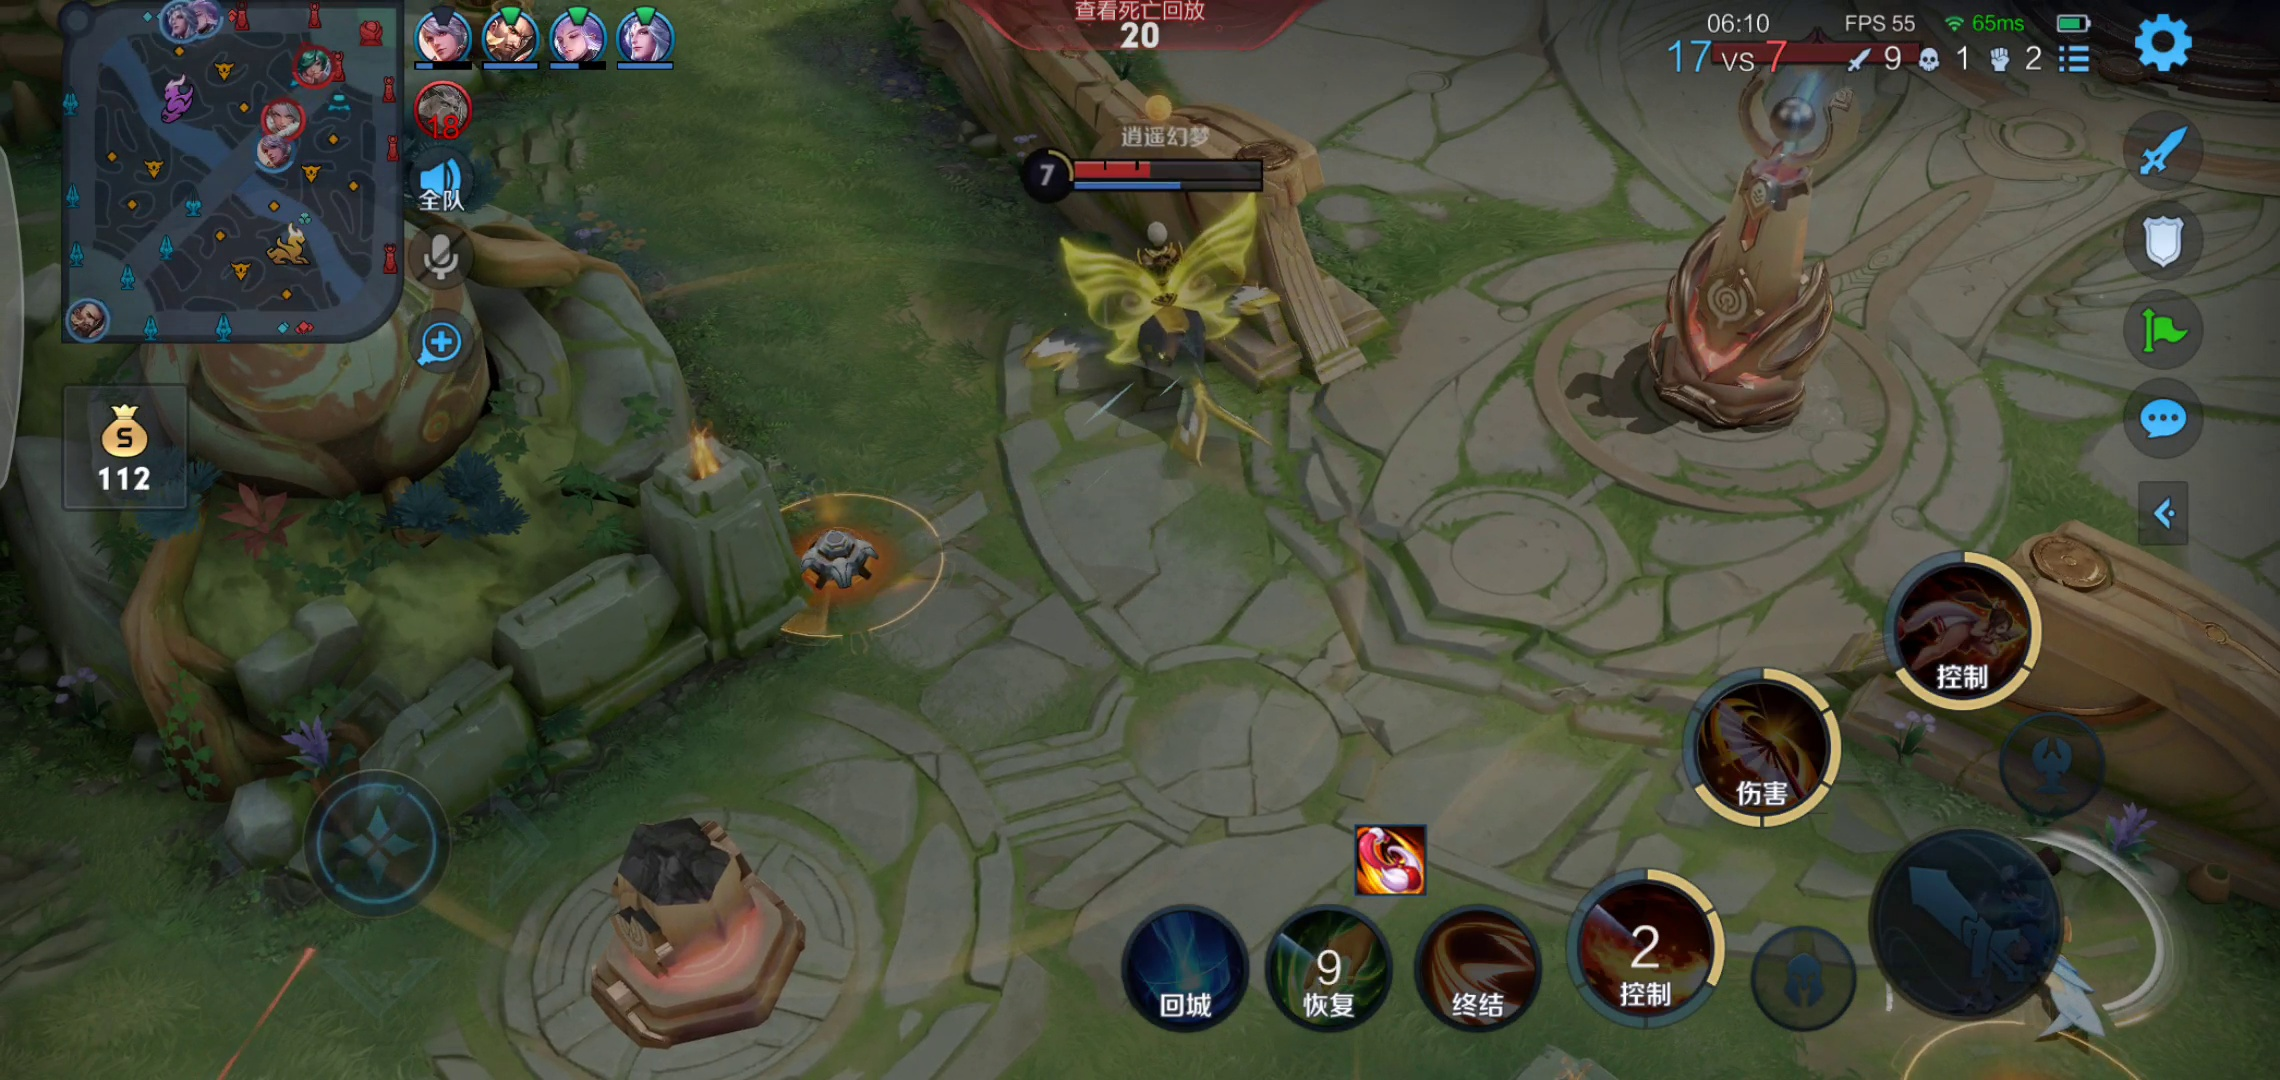hero: (1051, 217, 1256, 429)
tower: (1626, 65, 1903, 427), (569, 811, 839, 1039)
